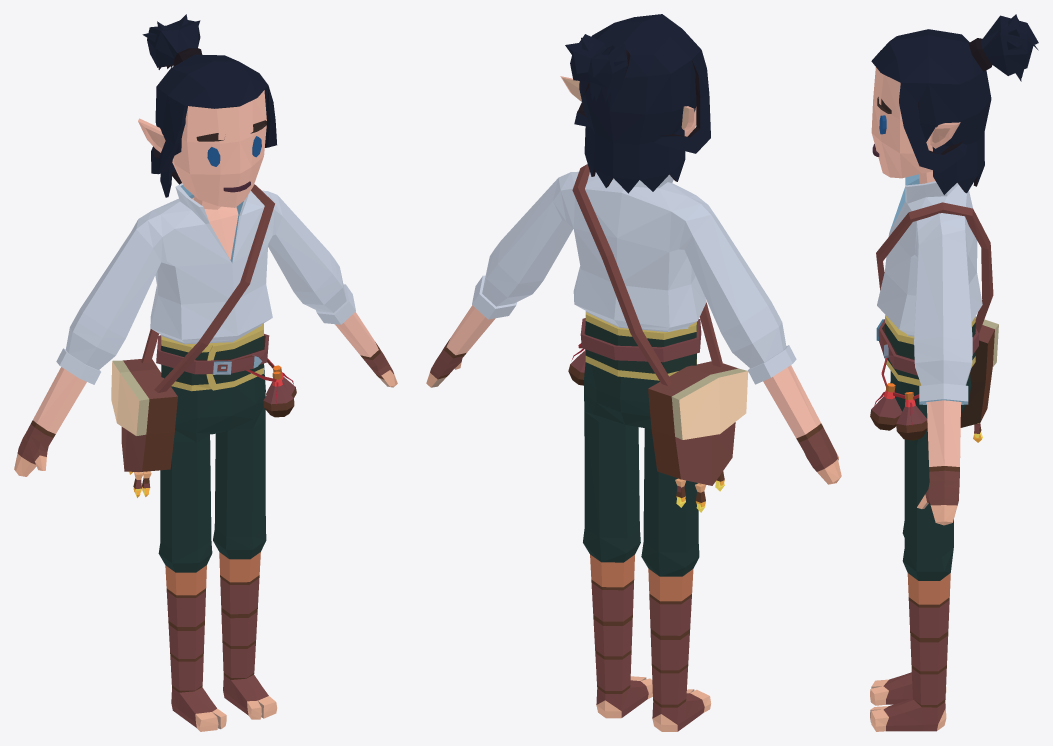
Rendered from hero_mage.glb.
3 views of the same model, side by side, from view 1: azimuth 30°, elevation 25°; view 2: azimuth 150°, elevation 25°; view 3: azimuth 270°, elevation 25° (orthographic). The views are drawn at different scales.
Visible parts, largest first — view 1: Object_4; view 2: Object_4; view 3: Object_4.
Part boxes in pixels (x1,y1,x2,y2): Object_4: (14, 14, 397, 731); Object_4: (426, 14, 841, 731); Object_4: (870, 14, 1038, 731).
Size of the model in its own units: 2.77 by 4.58 by 1.01.
Materials: 1 (1 with a texture image).
